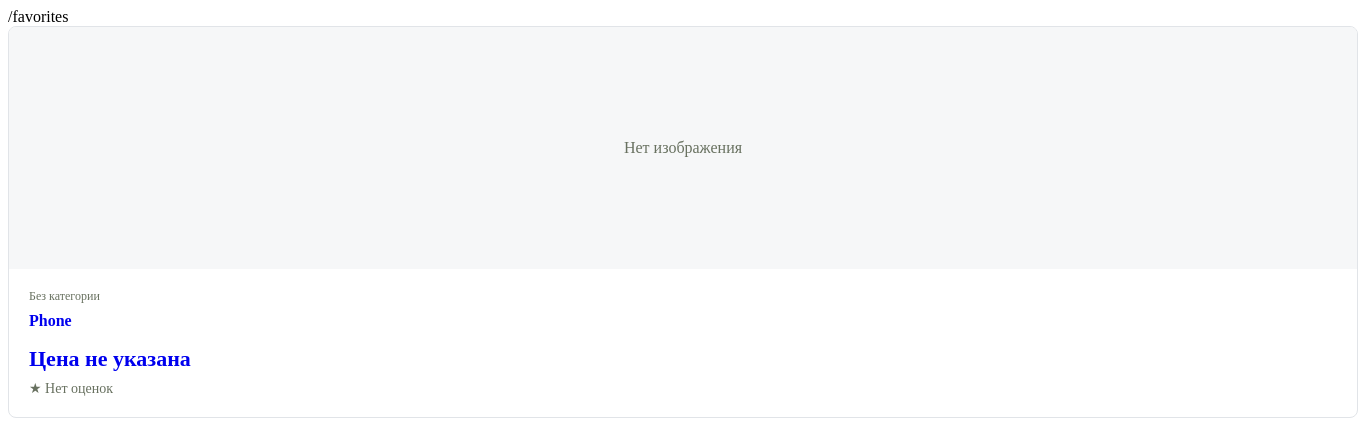
Test: product returns to /favorites supplied by its parent
This screenshot has width=1366, height=435.
Click the link at (683, 222), box [9, 27, 1357, 417]
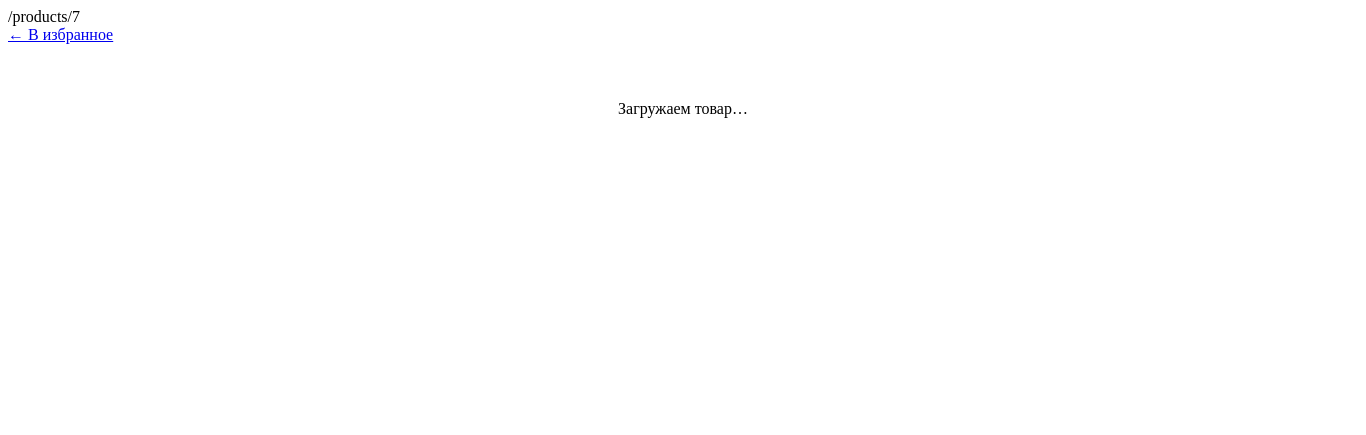
Expected: the text named "Адрес" reads "/products/7", [8, 8, 80, 25]
Click the link "← В избранное" at (61, 34), box [8, 26, 113, 43]
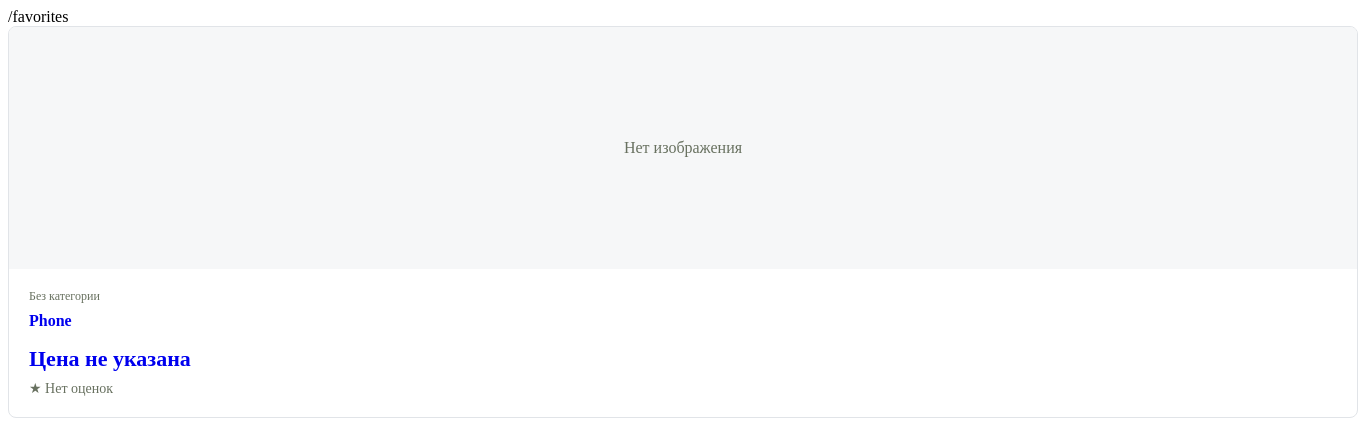
Expected: the text named "Адрес" reads "/favorites", [8, 8, 68, 25]
